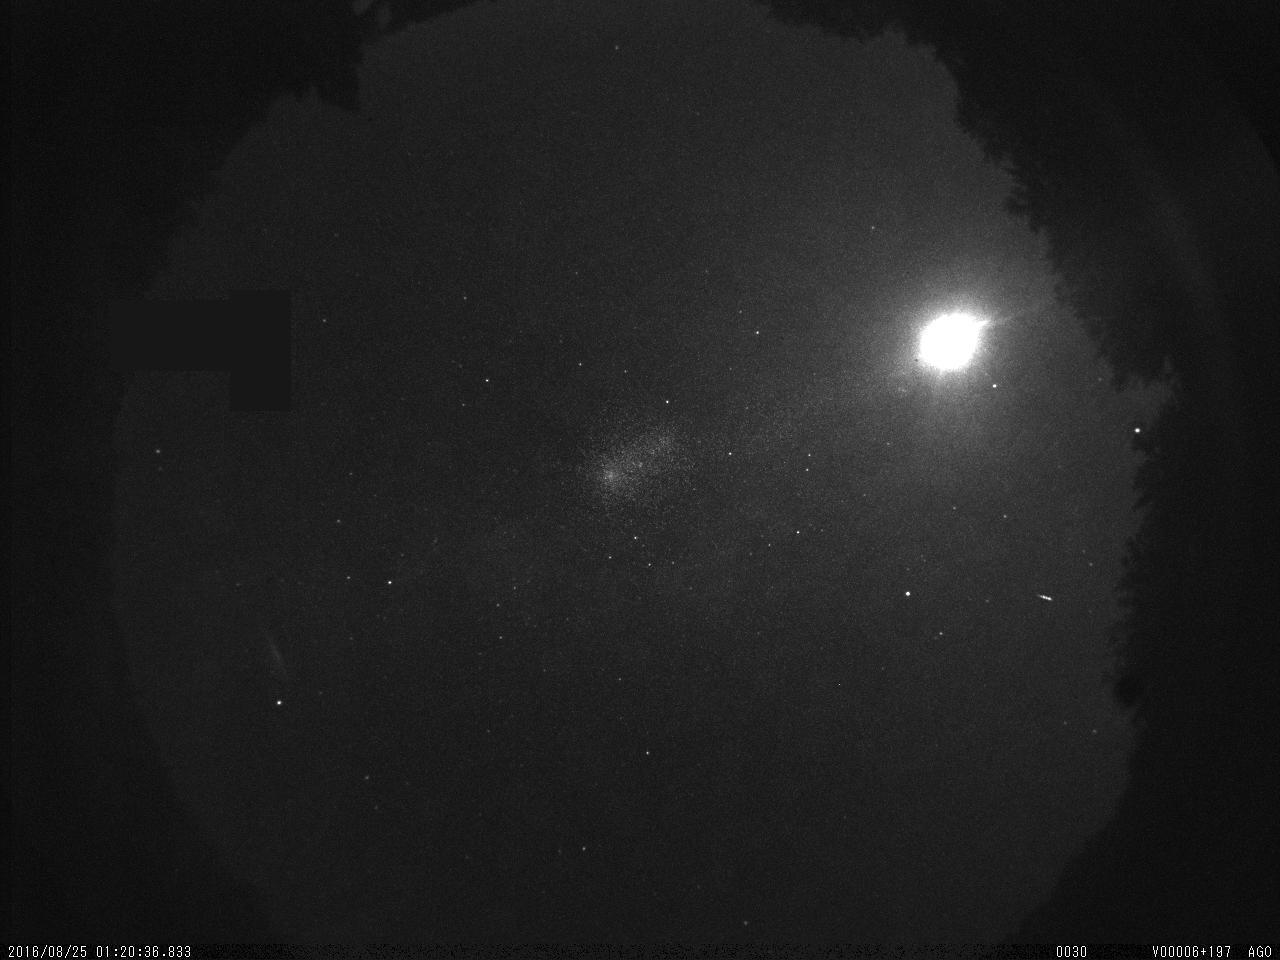meteor: (1033, 589, 1054, 605)
